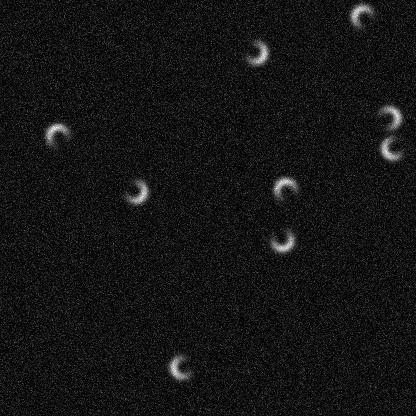Janus: (167, 351, 197, 381), (240, 37, 270, 67), (348, 2, 378, 32), (119, 175, 149, 205), (373, 103, 403, 133), (270, 175, 300, 205), (378, 132, 408, 162), (43, 121, 73, 151), (266, 224, 296, 254)
